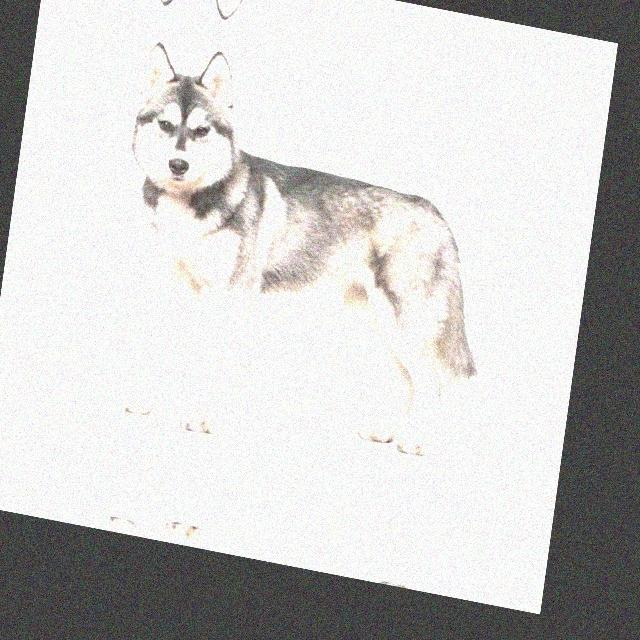dog: (83, 29, 529, 500), (70, 487, 467, 599), (140, 0, 540, 83)
